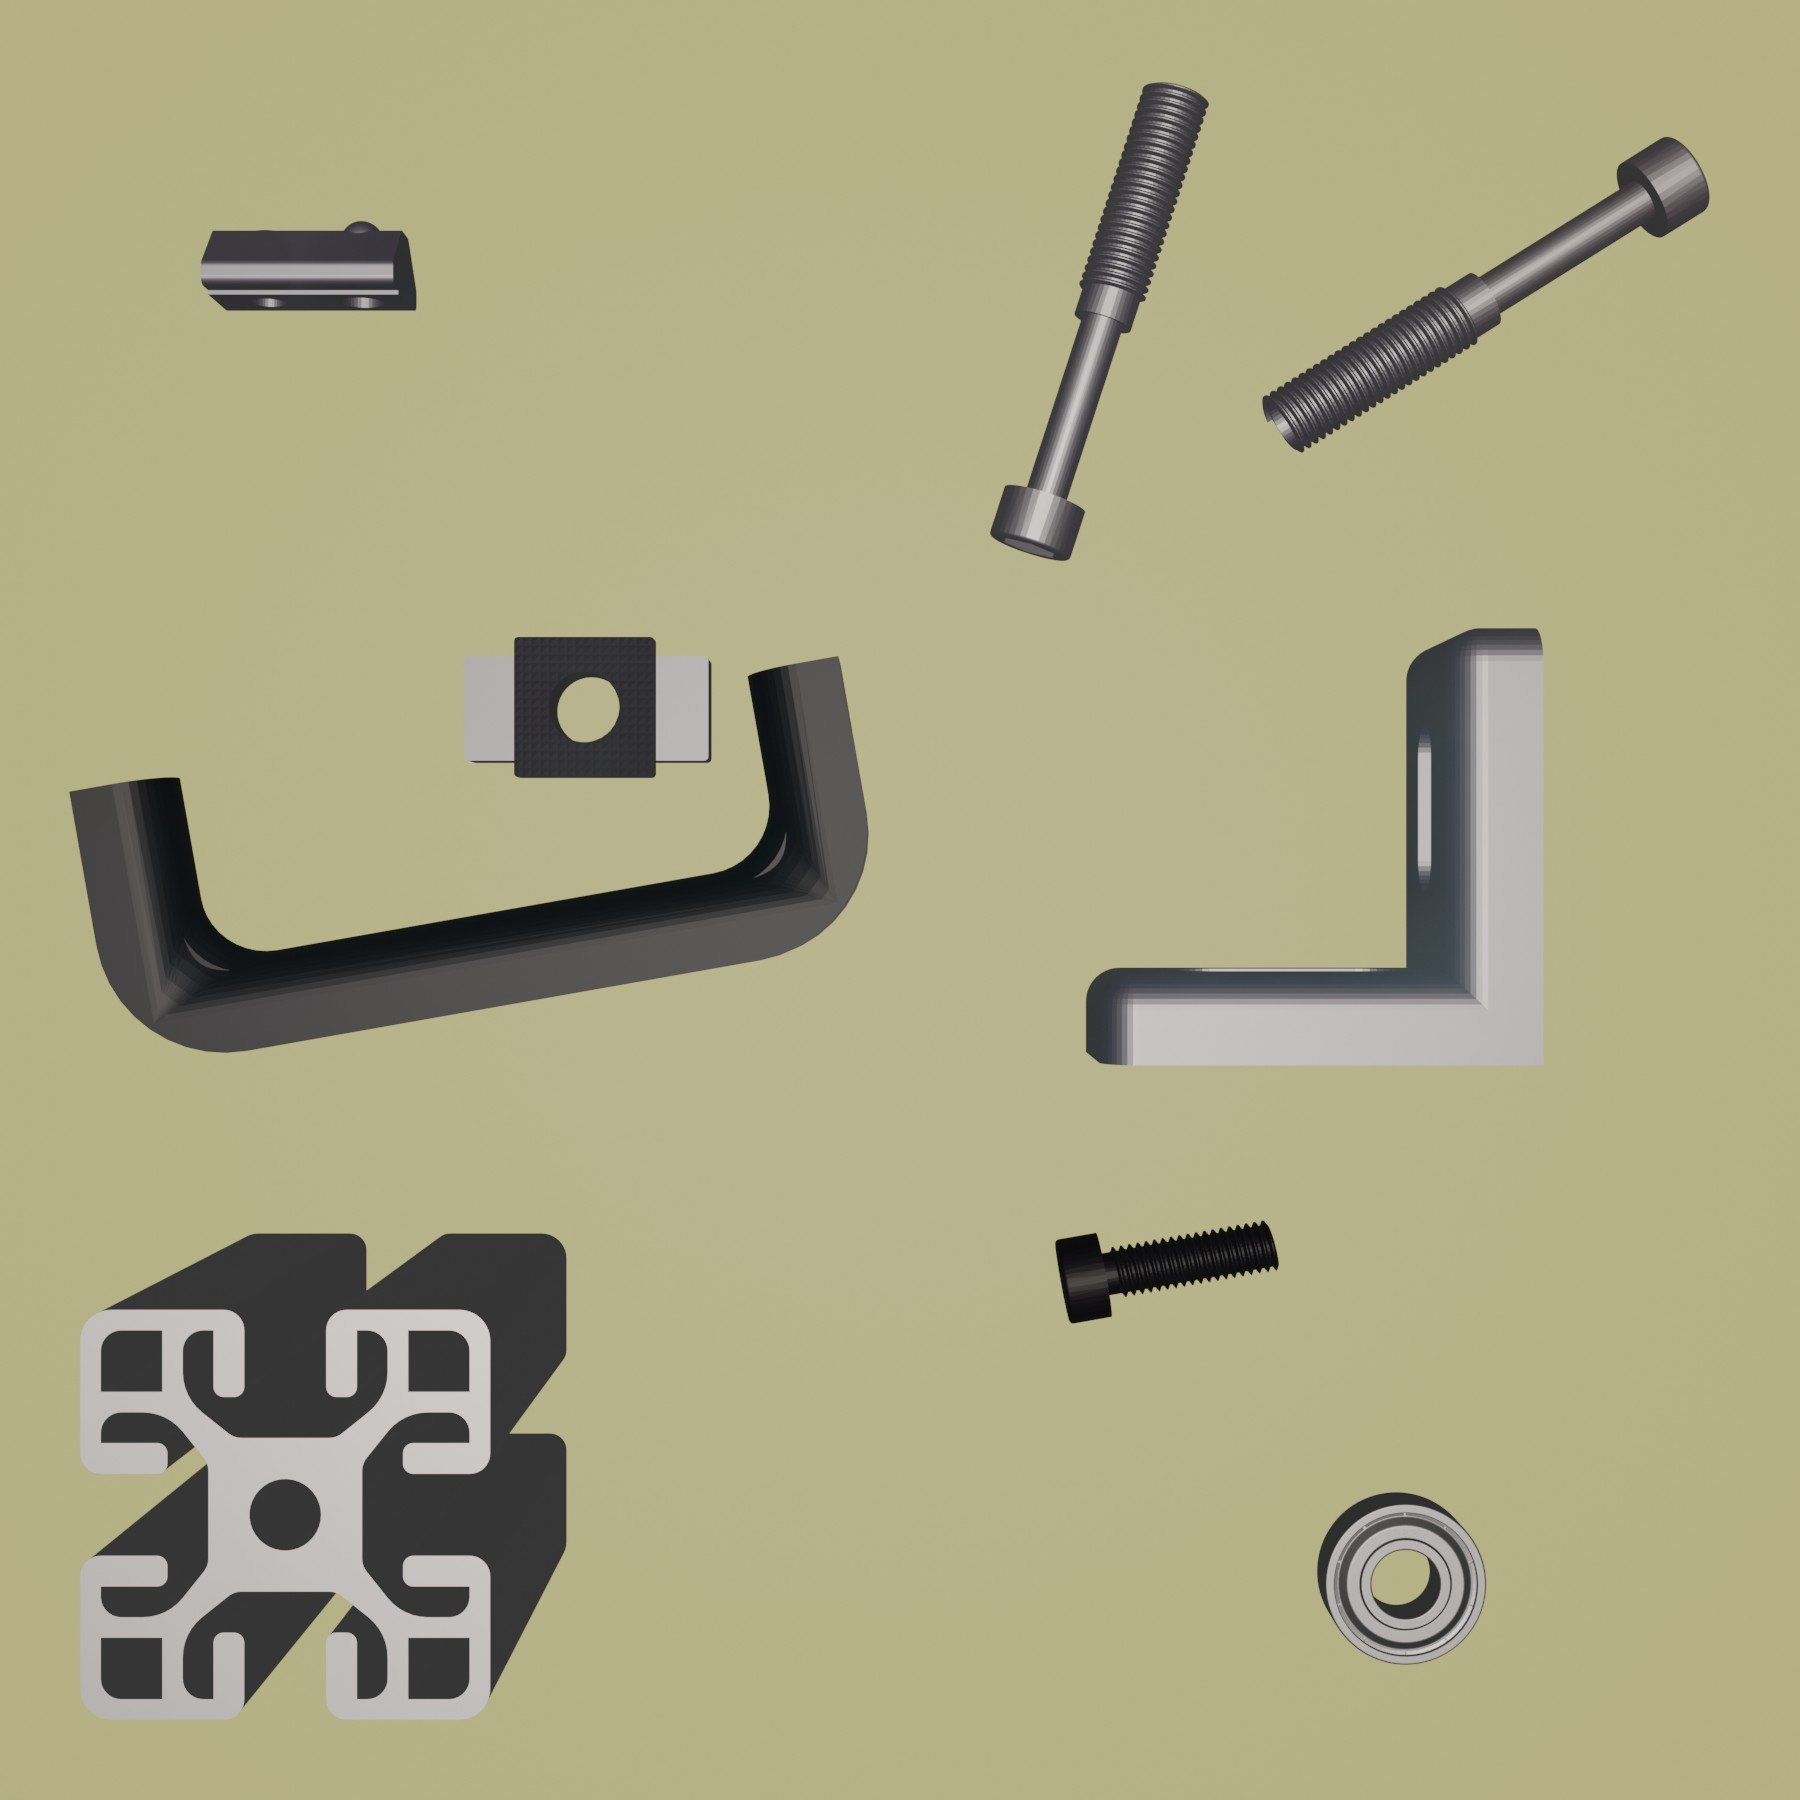Aluminium Extension: (73, 1230, 570, 1727)
Ball Bearing: (1314, 1488, 1487, 1666)
Multiwinkel: (1083, 625, 1551, 1073)
Pull Handle: (69, 651, 870, 1053)
Shoulder Socket Head Cap Screw: (1258, 134, 1713, 453), (987, 81, 1212, 565)
Socket Head Cap Screw: (1052, 1215, 1281, 1325)
T Nut Square: (458, 631, 717, 780)
T Spring Nut: (198, 216, 419, 313)
